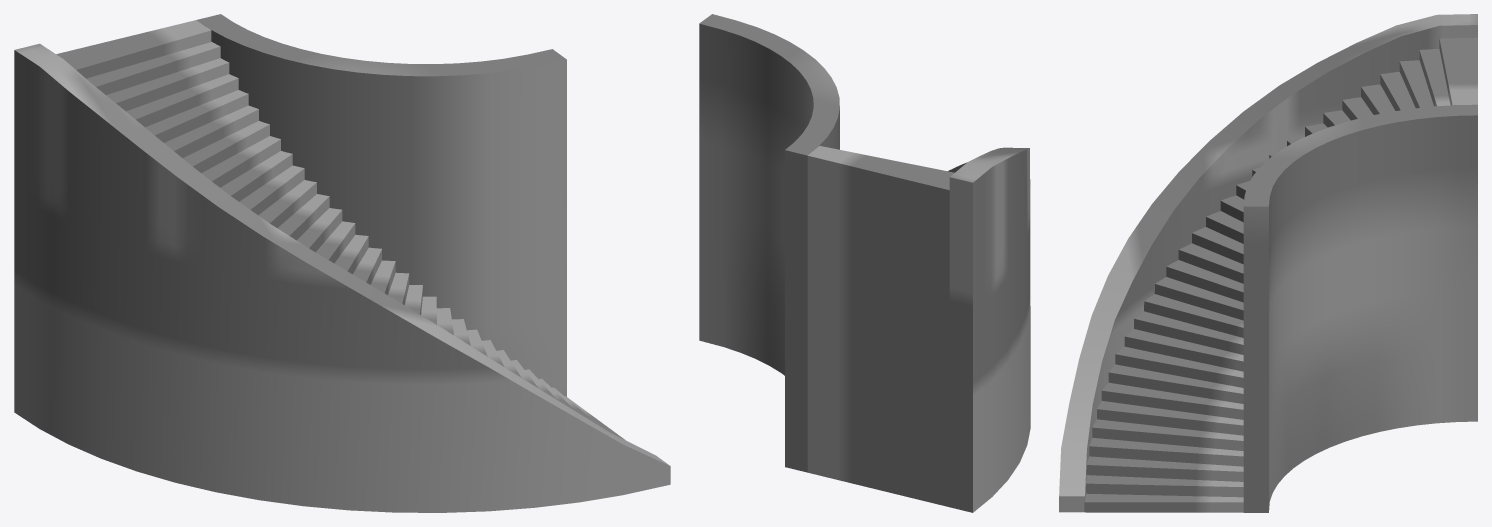
File: prop_Stairs_EM_B.fbx
3 renders of one model, left to right at view 1: azimuth 30°, elevation 25°; view 2: azimuth 150°, elevation 25°; view 3: azimuth 270°, elevation 25°, orthographic. The views are drawn at different scales.
Parts seen in each view (by area): view 1: prop_Stairs_EM_B; view 2: prop_Stairs_EM_B; view 3: prop_Stairs_EM_B.
Part boxes in pixels (bbox=[...]): prop_Stairs_EM_B: bbox=[14, 14, 670, 512]; prop_Stairs_EM_B: bbox=[699, 14, 1030, 512]; prop_Stairs_EM_B: bbox=[1059, 14, 1477, 512].
Size of the model in its own units: 724 by 598 by 712.
